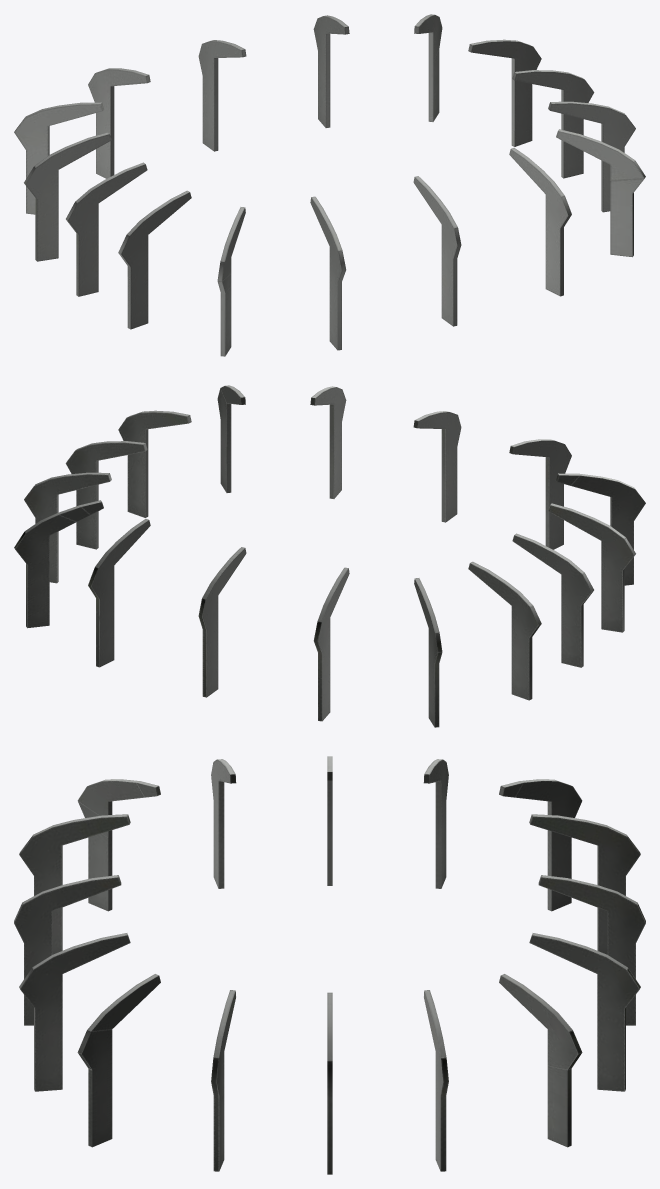
The model's file is stadion_hasira.fbx.
The picture shows the model from 3 angles, top to bottom: view 1: azimuth 30°, elevation 25°; view 2: azimuth 150°, elevation 25°; view 3: azimuth 270°, elevation 25°; orthographic projection. The views are drawn at different scales.
Visible parts, largest first — view 1: Opory; view 2: Opory; view 3: Opory.
Boxes of the visible parts, bbox=[...] form: Opory: bbox=[14, 14, 645, 356]; Opory: bbox=[14, 385, 645, 727]; Opory: bbox=[14, 756, 645, 1174].
Size of the model in its own units: 2568 by 571 by 2187.
